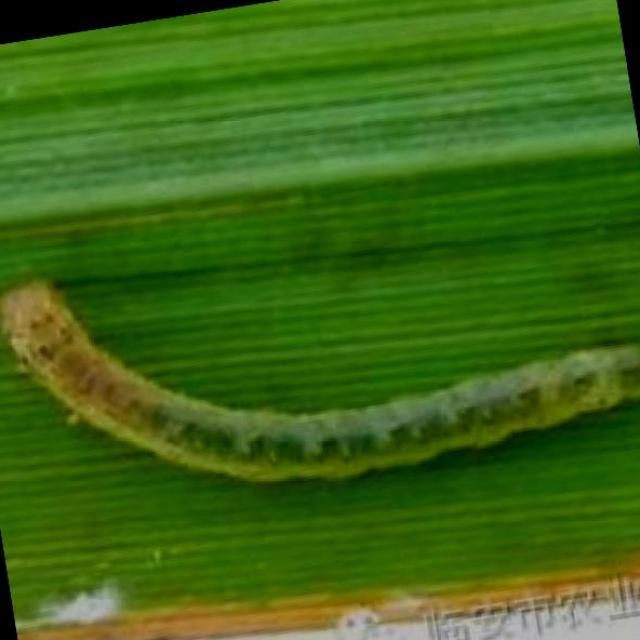leaf folder: (0, 281, 640, 480)
